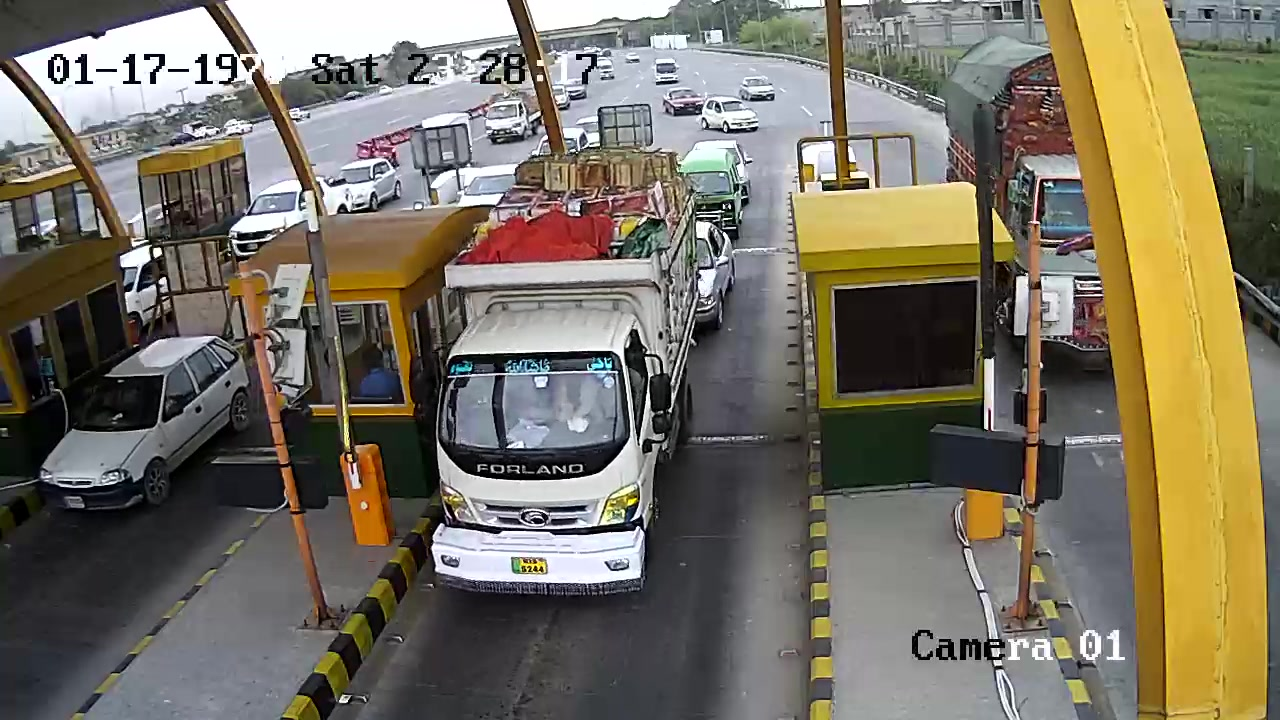F5: (418, 136, 715, 591)
